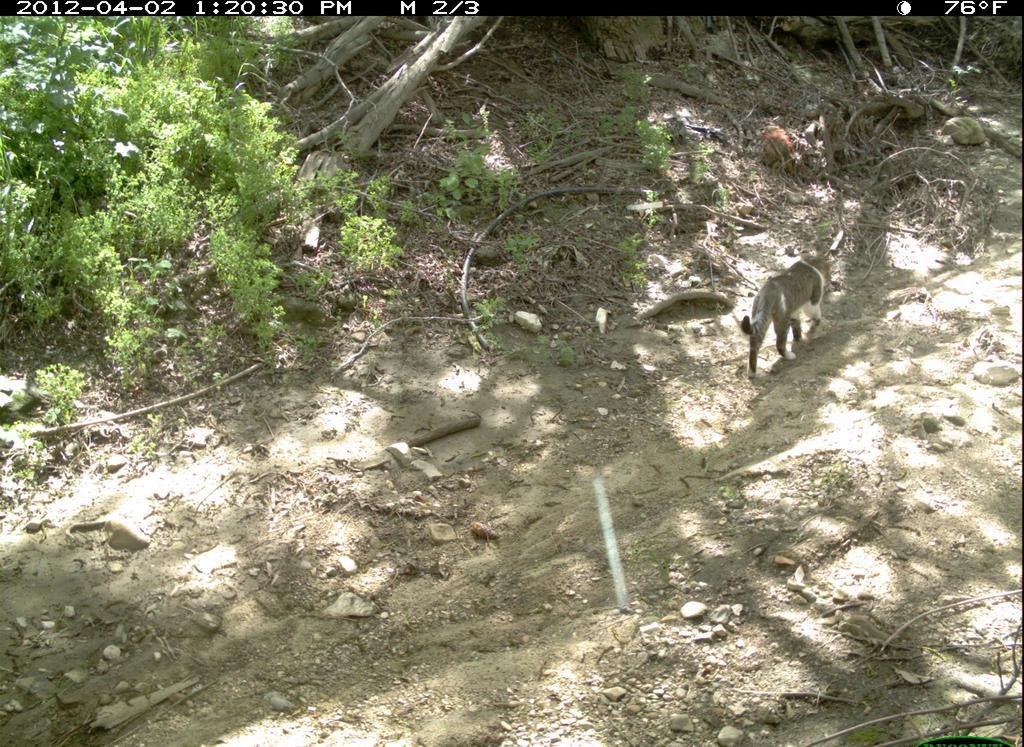cat: (733, 237, 845, 382)
